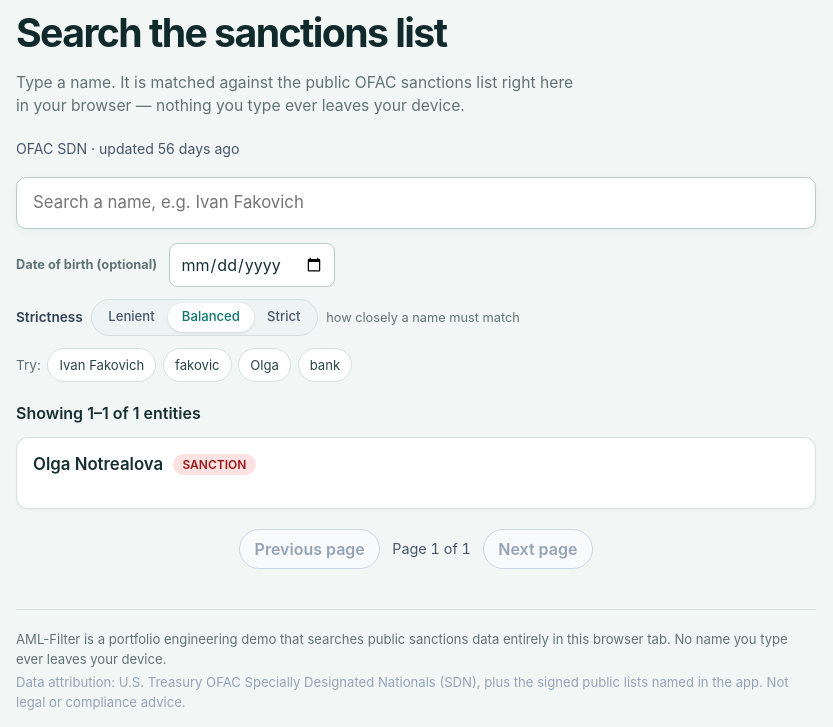
Scenario: ScreenPage — screen rejection must not read as a clear › recovers to a normal result when a later search succeeds after an error
In the search field with placeholder "Search a name, e.g. Ivan Fakovich": (416, 203) [16,177,816,229], type "ivan"
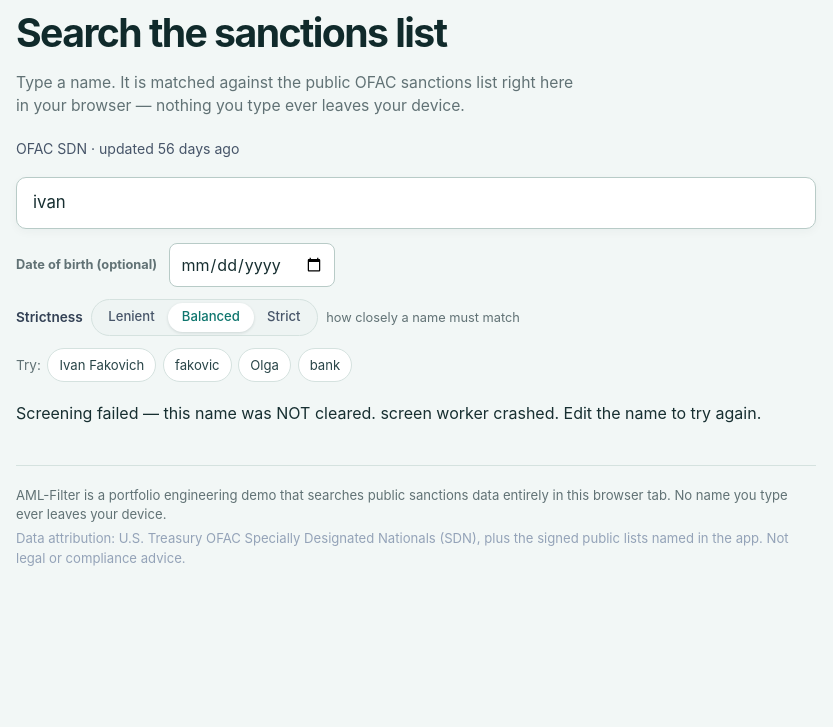
Check: the message is shown, box [16,401,816,425]
// A subsequent screenable query clears the error banner.
Replace the text in the search field with placeholder "Search a name, e.g. Ivan Fakovich" with "harmless": (416, 203) [16,177,816,229]
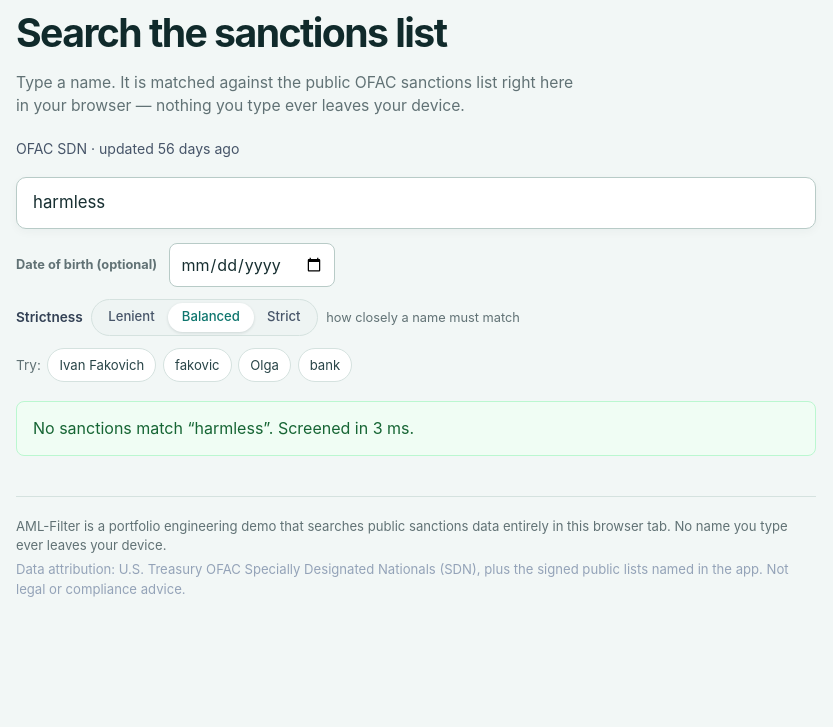
Check: the message "Showing 1–1 of 1 entities" is not shown
Check: the text "No sanctions match “harmless”. Screened in 3 ms." is shown, box [16,401,816,456]
